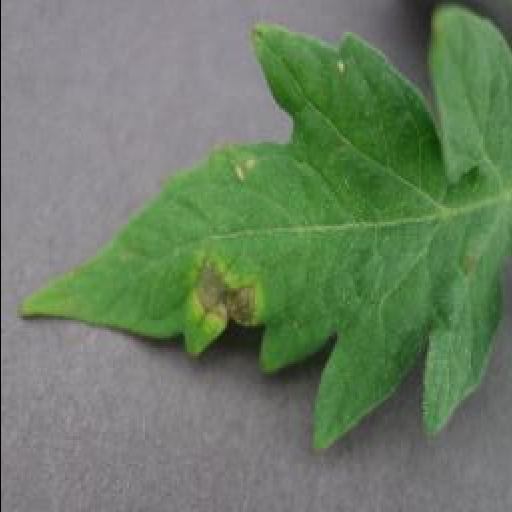disease_tomato: (14, 6, 512, 454)
